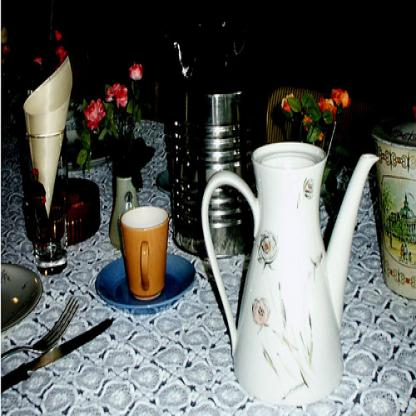diningtable: (0, 89, 415, 415)
